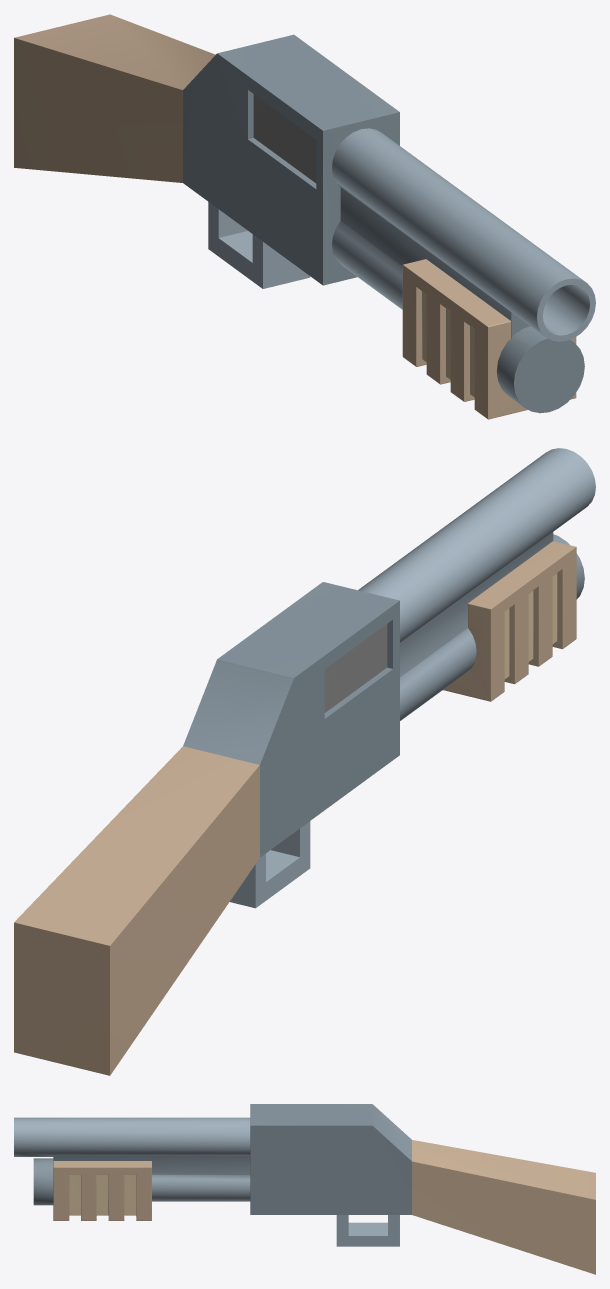
Rendered from shotgun.glb.
3 views of the same model, one above another, from view 1: azimuth 30°, elevation 25°; view 2: azimuth 150°, elevation 25°; view 3: azimuth 270°, elevation 25° (orthographic). The views are drawn at different scales.
Parts seen in each view (by area): view 1: shotgun, grip; view 2: shotgun, grip; view 3: shotgun, grip.
Boxes of the visible parts, x1,y1,x2,y2 form: shotgun: (14,14,595,413); grip: (402,259,576,419); shotgun: (14,448,595,1075); grip: (443,541,576,701); shotgun: (14,1104,595,1274); grip: (53,1161,151,1220).
Bounding box in the file's own units: 0.0622 × 0.1569 × 0.5653.
